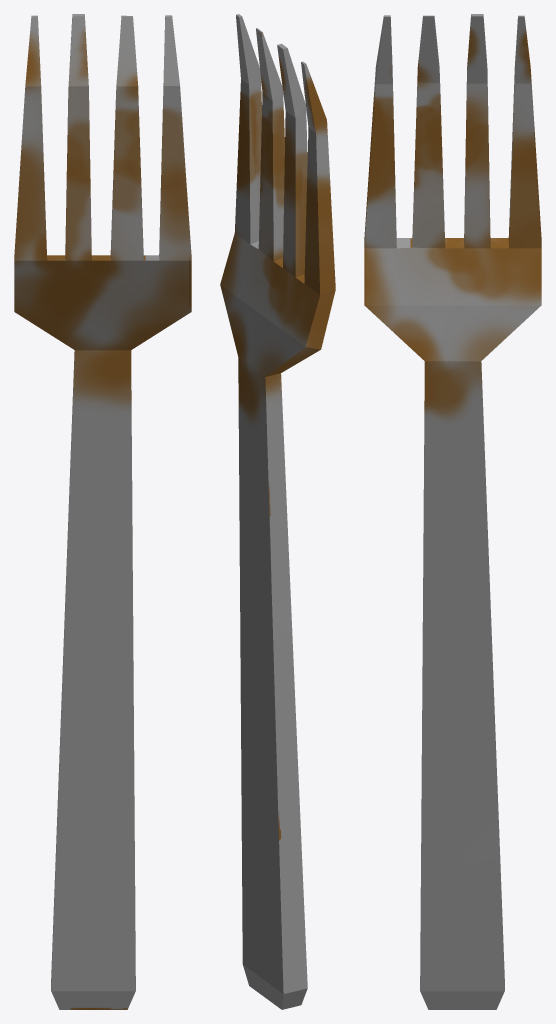
File: cutleryT2_fork.fbx
The picture shows the model from 3 angles, left to right: view 1: azimuth 90°, elevation 25°; view 2: azimuth 210°, elevation 25°; view 3: azimuth 270°, elevation 25°; orthographic projection. The views are drawn at different scales.
Parts seen in each view (by area): view 1: frok; view 2: frok; view 3: frok.
Boxes of the visible parts, x1,y1,x2,y2 form: frok: [14, 14, 191, 1009]; frok: [220, 14, 335, 1009]; frok: [364, 14, 541, 1009].
Size of the model in its own units: 8.93 by 197 by 32.02.
